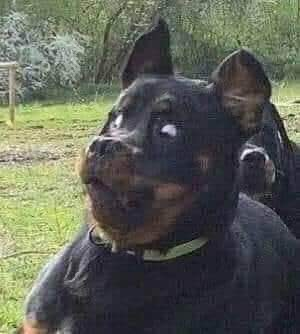dog: (25, 18, 295, 332)
